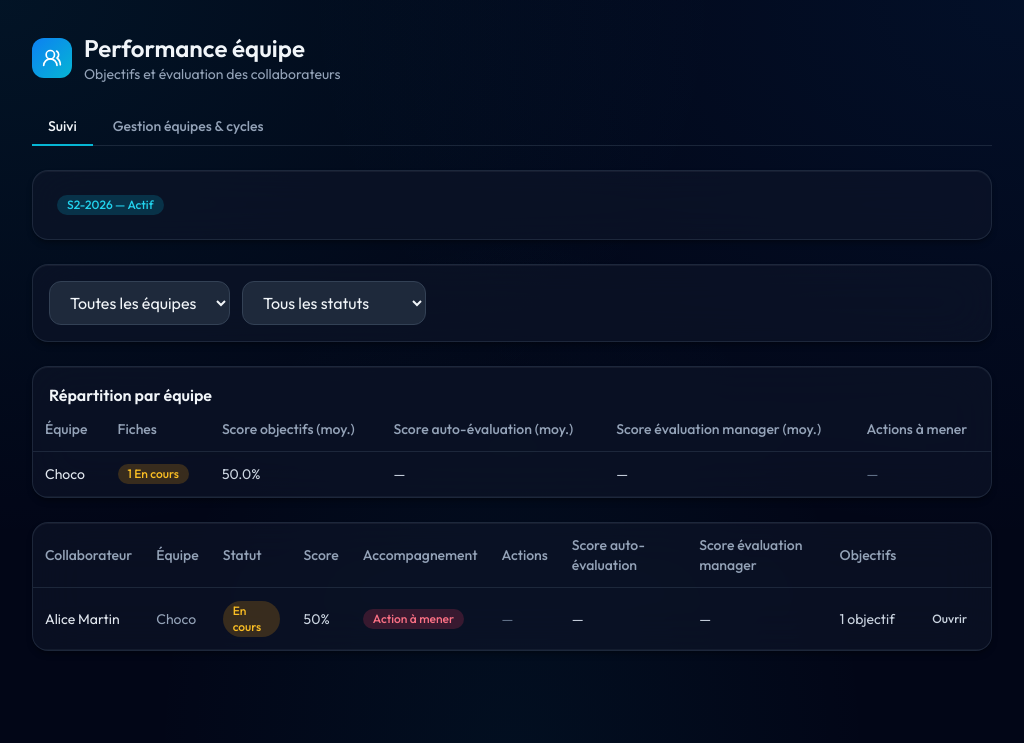
Scenario: TeamPerformancePage › suggère automatiquement des axes de compétence à la saisie du titre d'un nouvel objectif
Expected: the text "Alice Martin" is shown, [33,588,144,650]
Click the button "Ouvrir" at (950, 618), box [920,604,979,632]
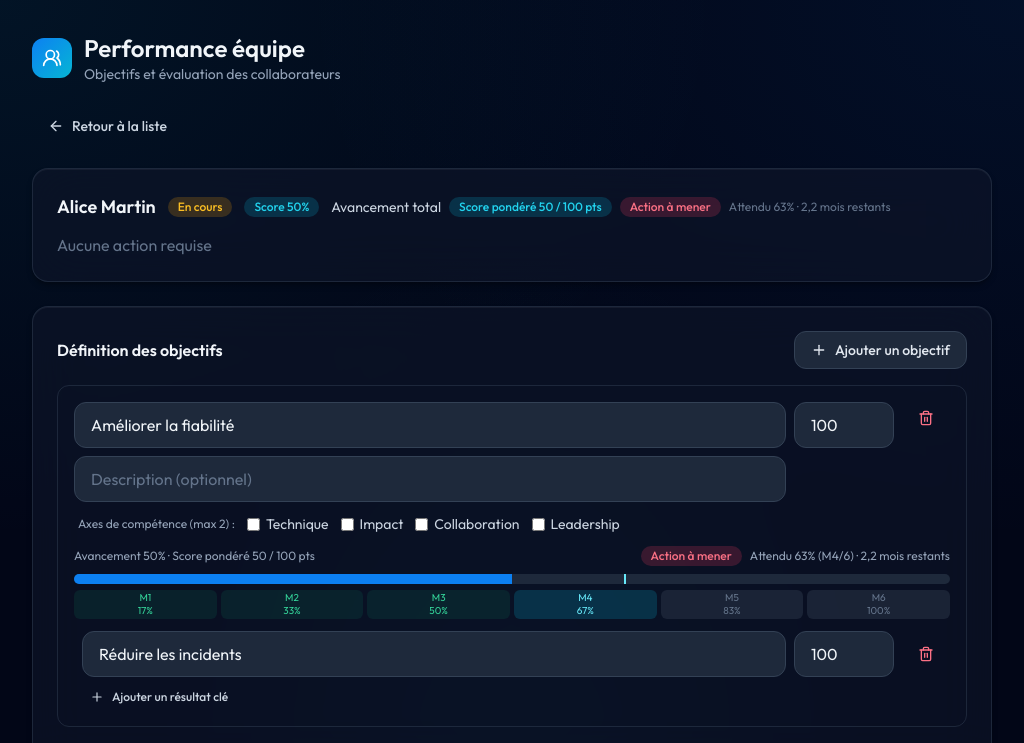
Expected: the 1st field with placeholder "Titre de l'objectif" is shown, [74,402,786,448]
Click the button "Ajouter un objectif" at (880, 350), box [794,331,967,369]
(page scrolled)
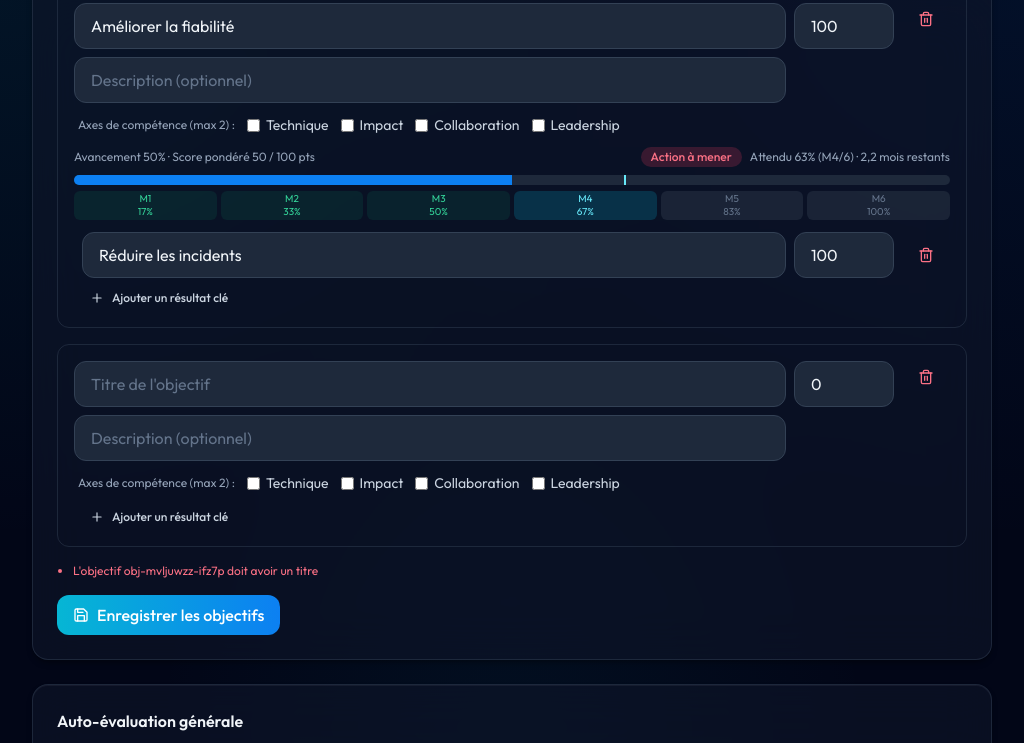
Type "Refactoriser l'architecture technique" into the field with placeholder "Titre de l'objectif" at (430, 384), box [74,361,786,407]
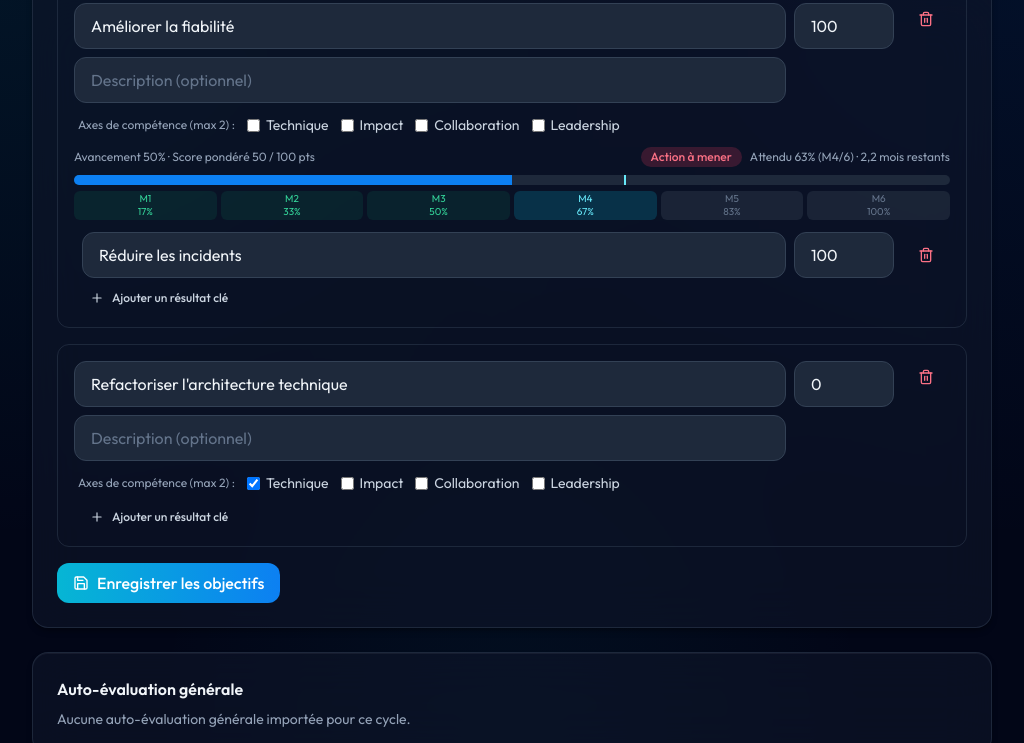
Expected: the 2nd checkbox labelled "Impact" is not checked, [340,476,354,490]
Expected: the 2nd checkbox labelled "Technique" is checked, [247,476,260,490]
